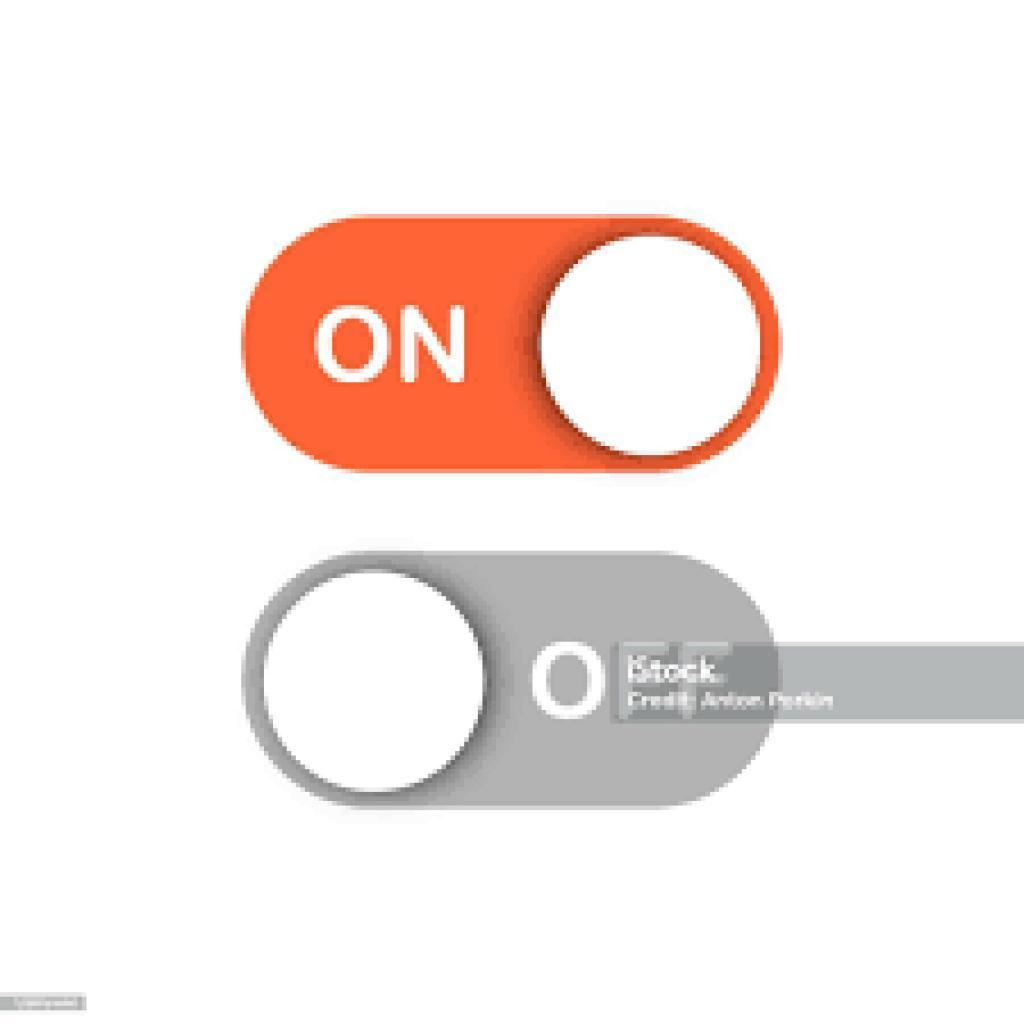switch: (223, 204, 780, 482), (227, 542, 780, 816)
